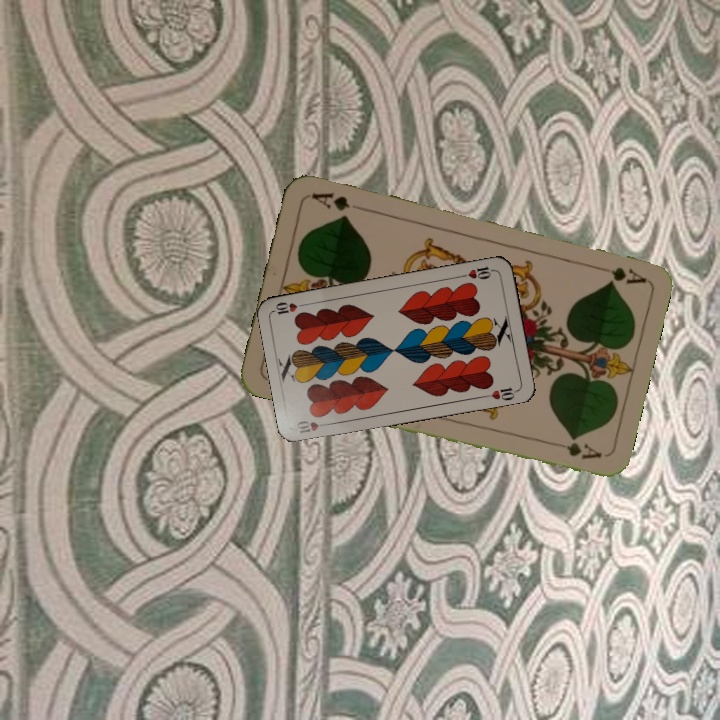GA: (589, 261, 648, 287)
H10: (293, 416, 333, 436), (457, 263, 497, 282)
